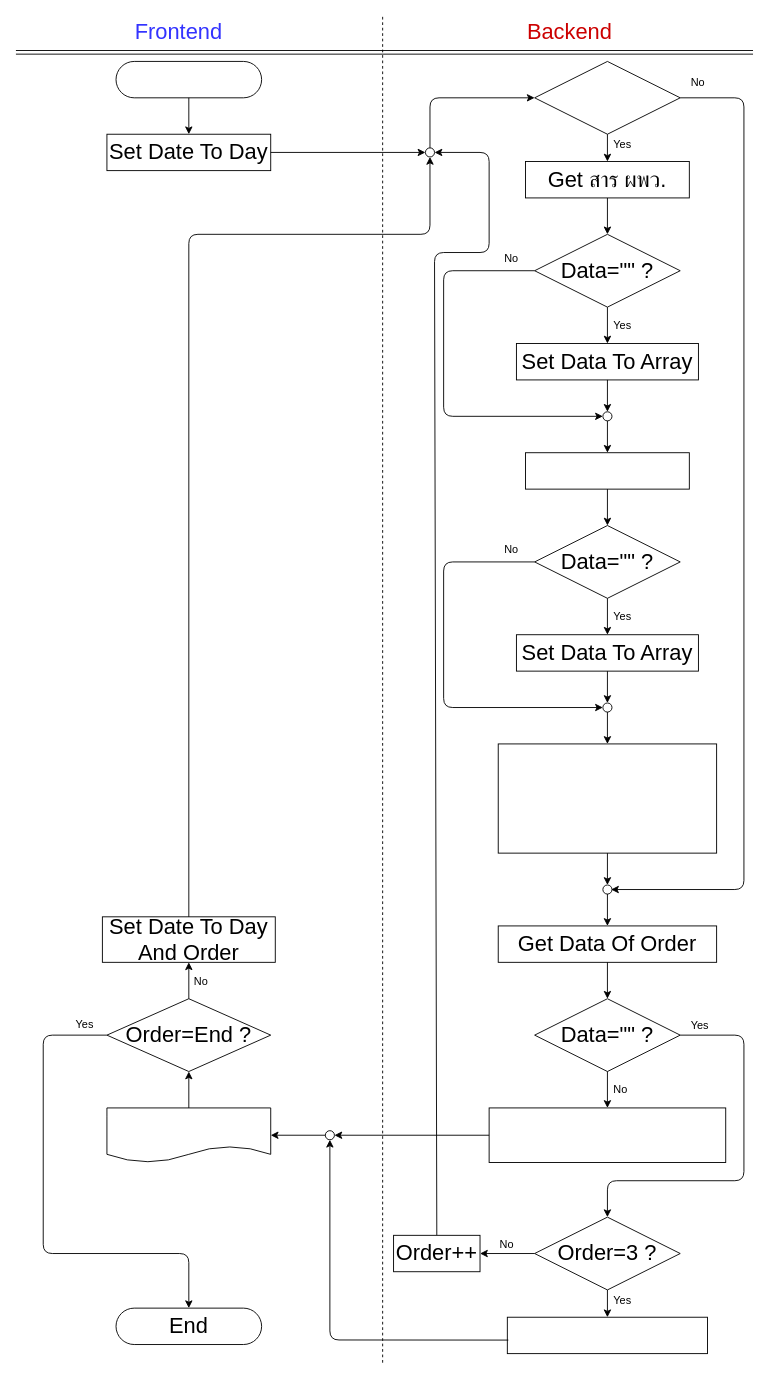
This 769x1380 diagram has some shape labels left out. The shapes that lost their labels are listed below. From the top down, each one's centre as x and y in pixels, then its label:
(188,79): Start
(607,97): Order="" ?
(607,470): Get ข่าวด่วน
(607,798): Get Order For Setting - News - Intray - Event
(188,1135): Show Data
(607,1135): Return Data And Order To Array
(607,1335): Return Order = End
